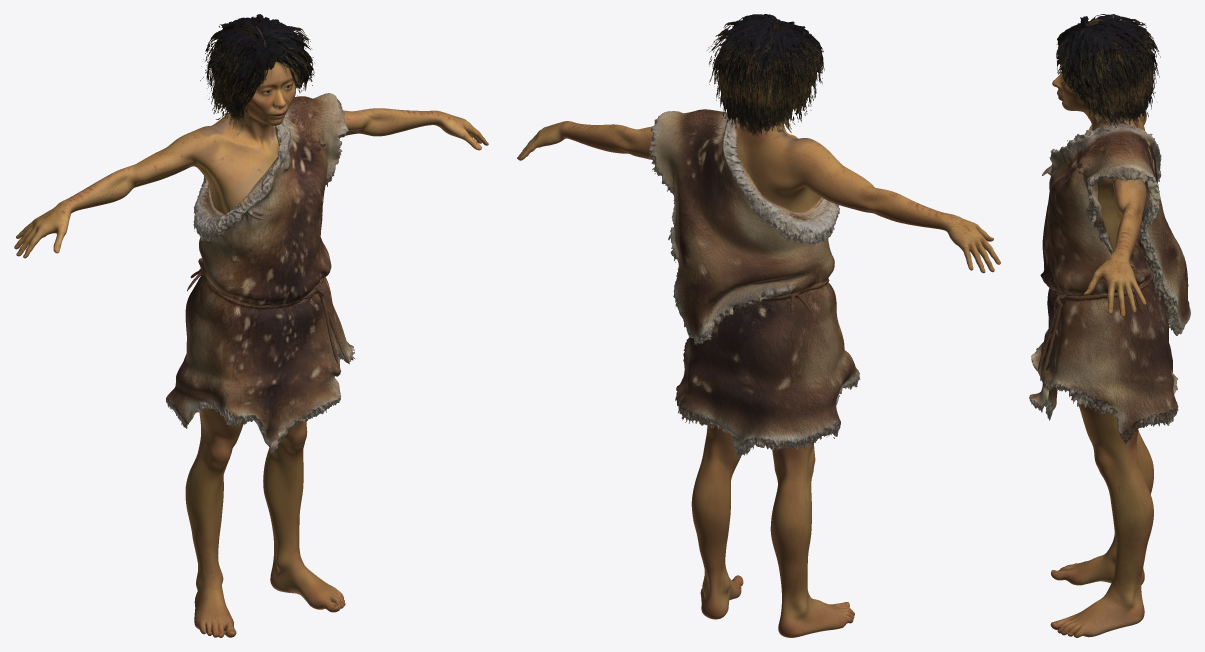
The model's file is hoehlenfrau_original.glb.
The picture shows the model from 3 angles, left to right: view 1: azimuth 30°, elevation 25°; view 2: azimuth 150°, elevation 25°; view 3: azimuth 270°, elevation 25°; orthographic projection. The views are drawn at different scales.
Size of the model in its own units: 1.58 by 1.9 by 0.4748.
1 material, 1 textured.
